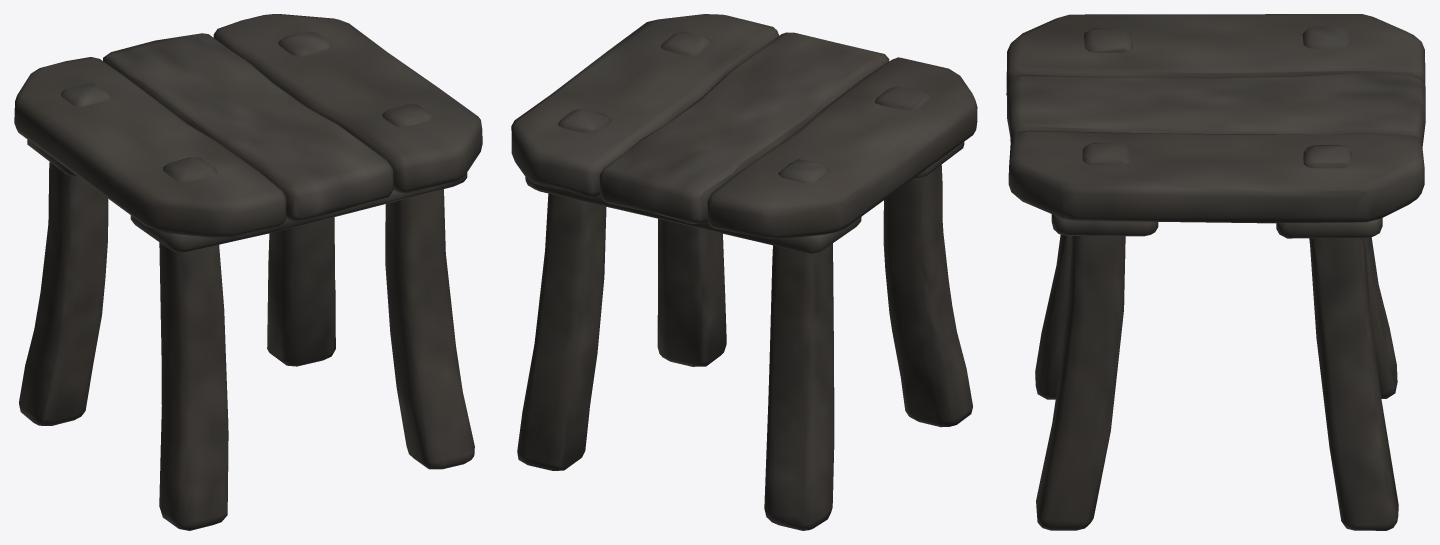
The model's file is Stool_01.fbx.
3 views of the same model, side by side, from view 1: azimuth 30°, elevation 25°; view 2: azimuth 150°, elevation 25°; view 3: azimuth 270°, elevation 25° (orthographic). The views are drawn at different scales.
Visible parts, largest first — view 1: Stool_01; view 2: Stool_01; view 3: Stool_01.
Part boxes in pixels (x1,y1,x2,y2): Stool_01: (14, 14, 482, 530); Stool_01: (511, 14, 977, 530); Stool_01: (1006, 14, 1425, 530).
Size of what is drawn, in the model's own units: 44.49 by 42.8 by 44.49.
